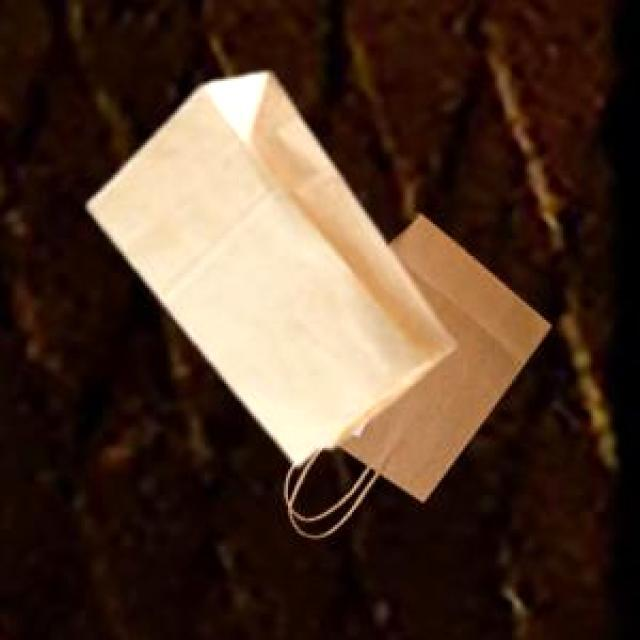Paper_Bag: (84, 69, 449, 462), (326, 210, 548, 509)
